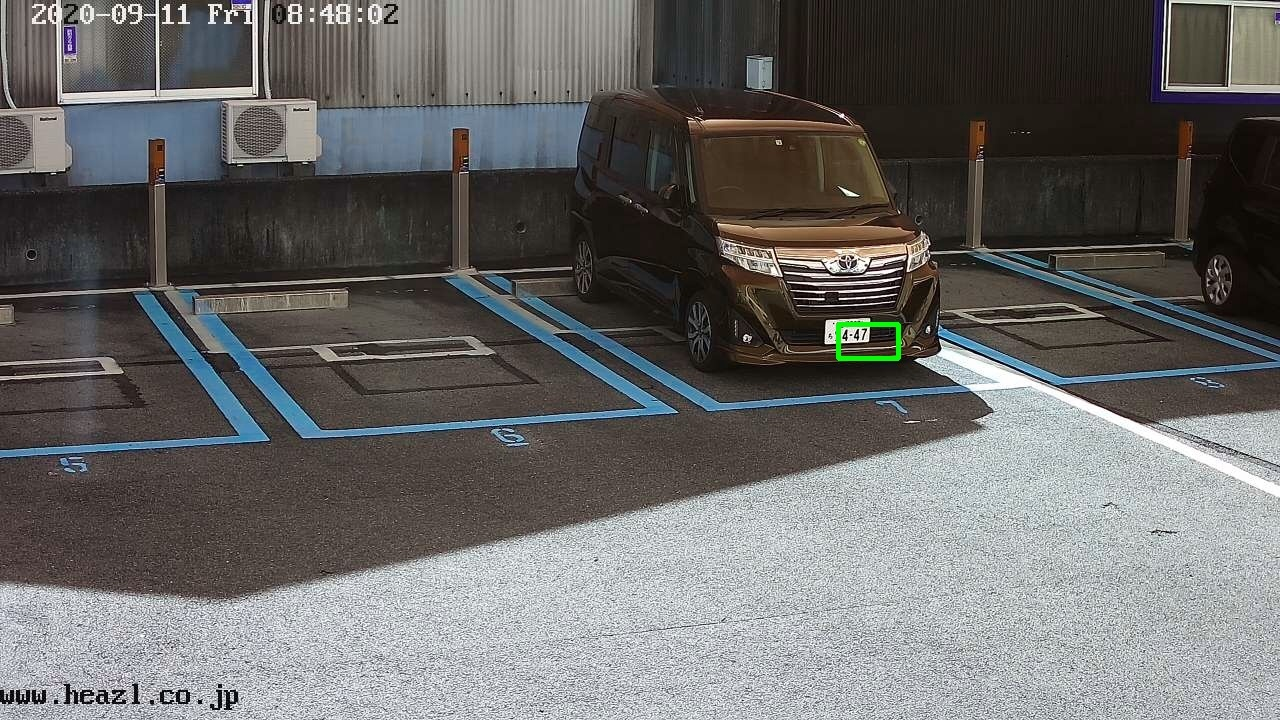number_plate: (824, 317, 870, 343)
